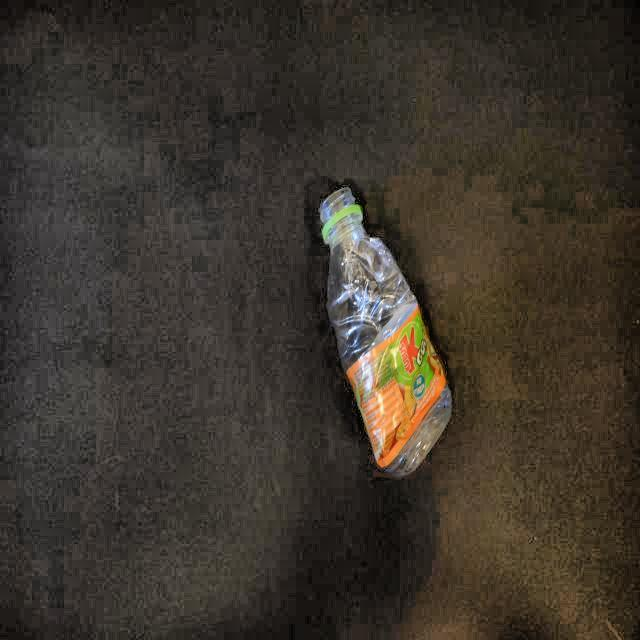plastic bottle: (320, 188, 452, 476)
